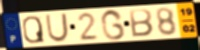2: (77, 12, 100, 42)
8: (155, 6, 178, 37)
B: (128, 8, 155, 39)
G: (100, 8, 127, 41)
Q: (21, 15, 46, 45)
U: (44, 12, 70, 43)
